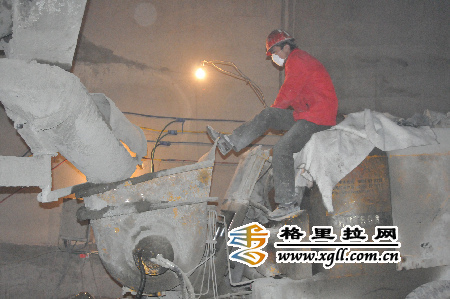boots: (206, 125, 234, 156), (268, 202, 305, 221)
gloves: (206, 125, 234, 156)
hard-hat: (265, 28, 293, 55)
person: (203, 28, 338, 221)
